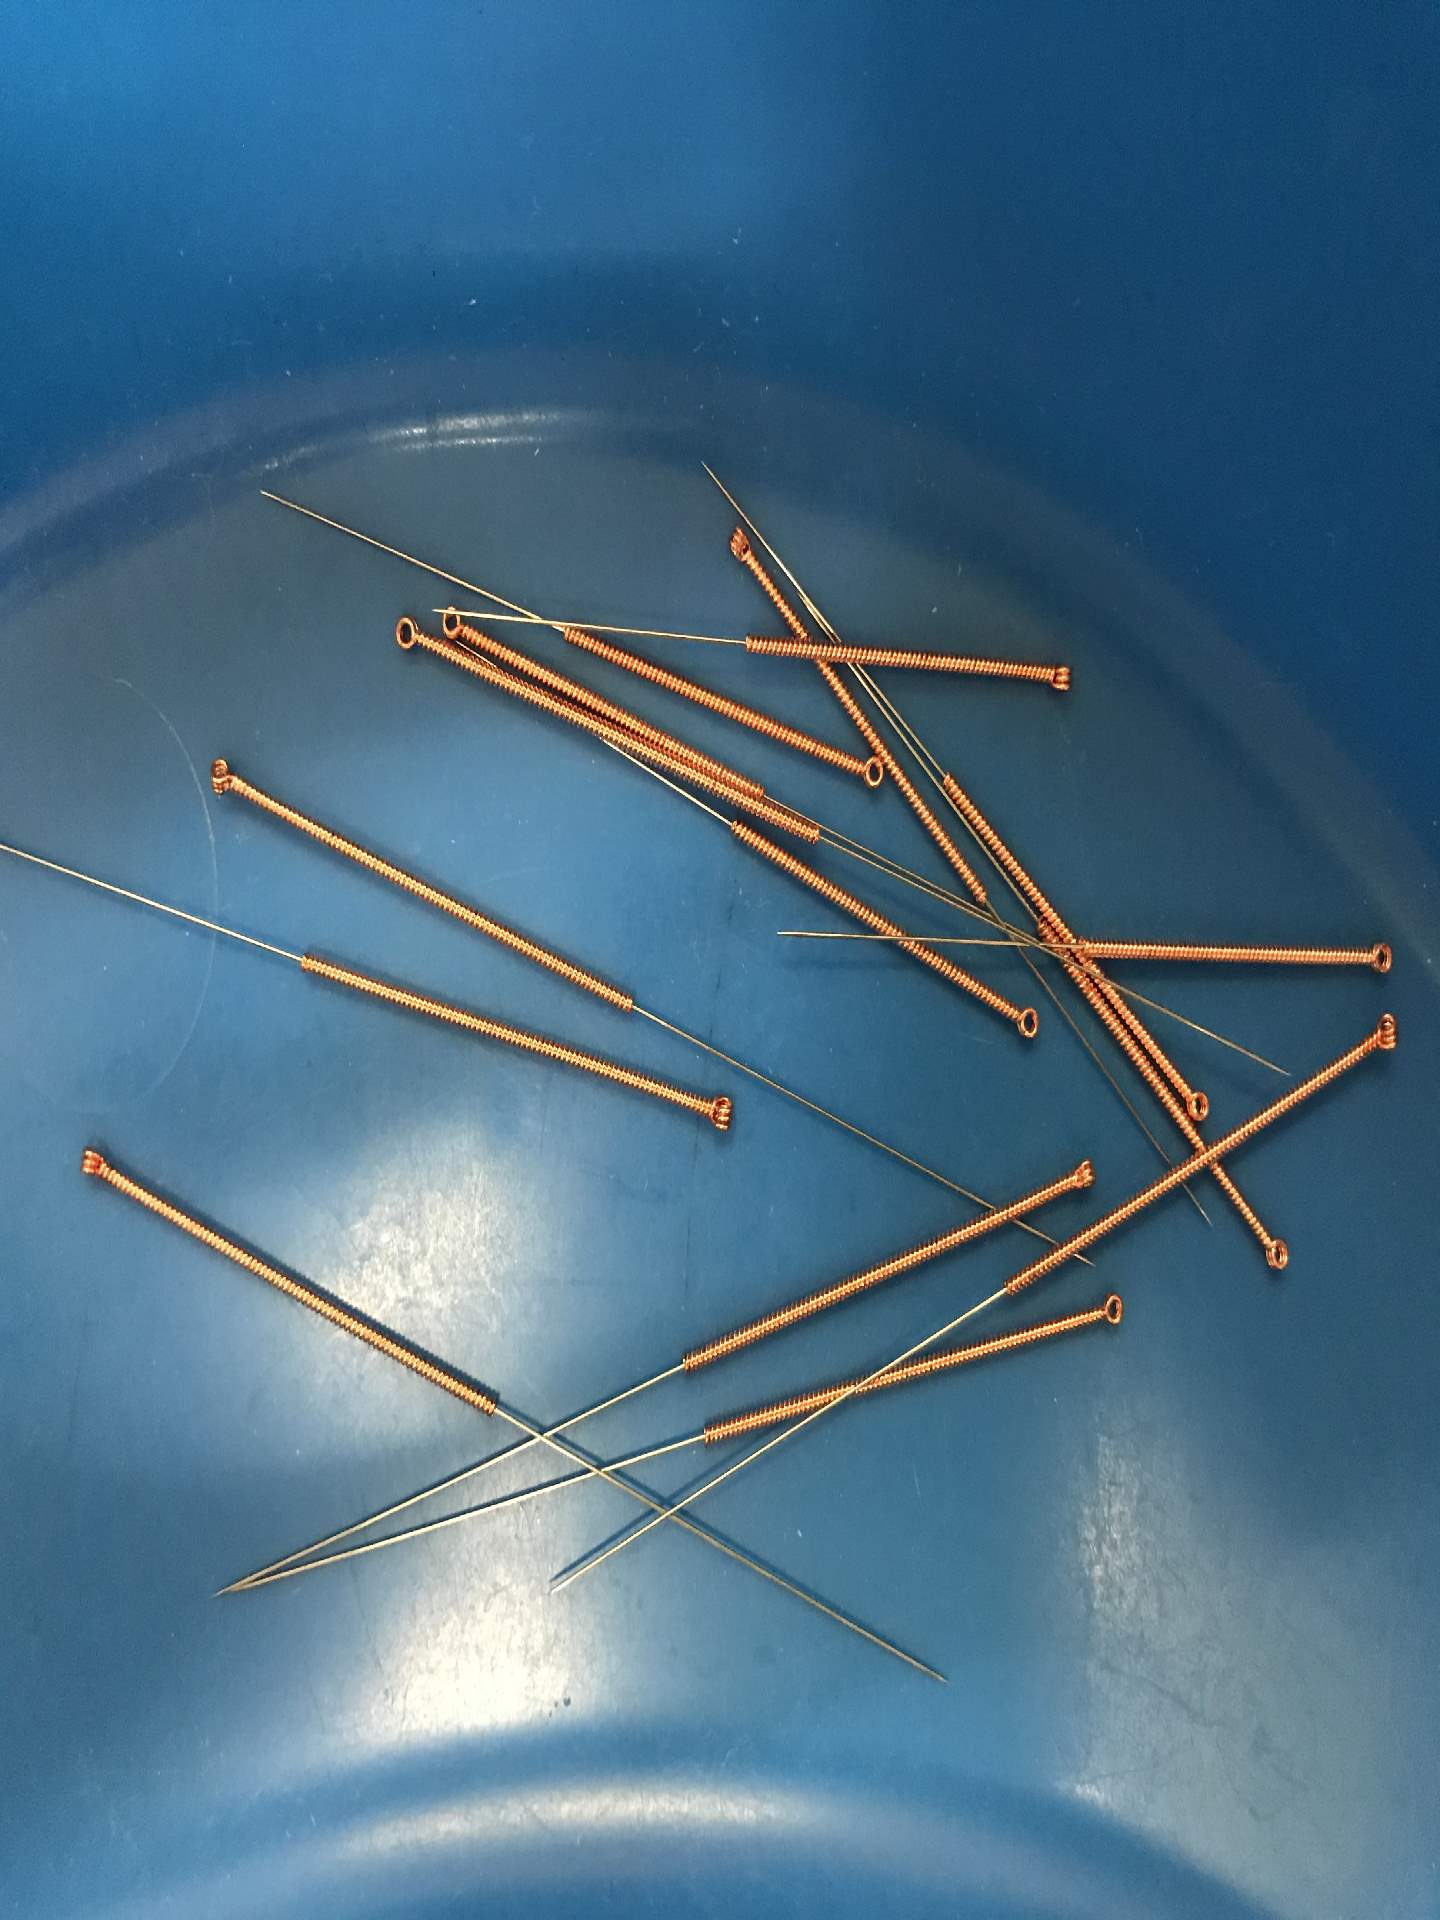needle: (1339, 924, 1408, 990), (682, 1082, 752, 1144), (191, 748, 262, 807), (992, 992, 1057, 1054), (1047, 1144, 1112, 1205), (1349, 1004, 1414, 1064), (1246, 1215, 1301, 1287), (65, 1131, 126, 1194), (1074, 1284, 1136, 1341), (372, 603, 431, 661), (1029, 650, 1086, 706), (717, 514, 762, 579), (833, 750, 886, 800), (436, 596, 486, 646), (1178, 1067, 1215, 1126)
